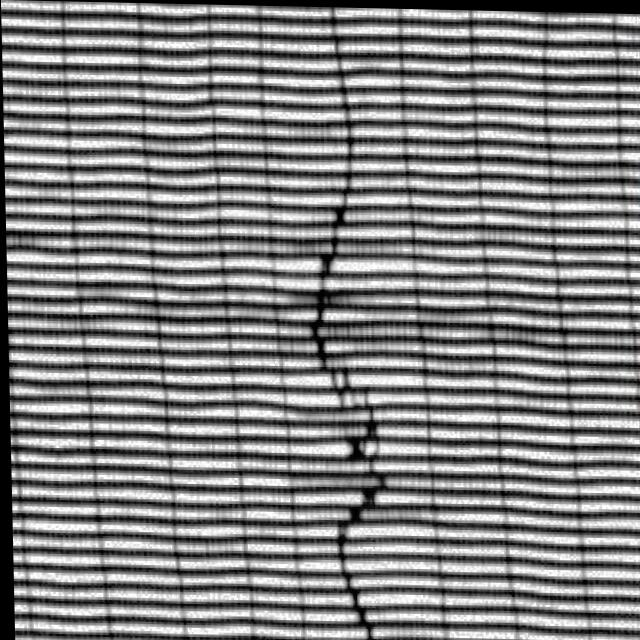Stitch: (268, 169, 419, 640)
